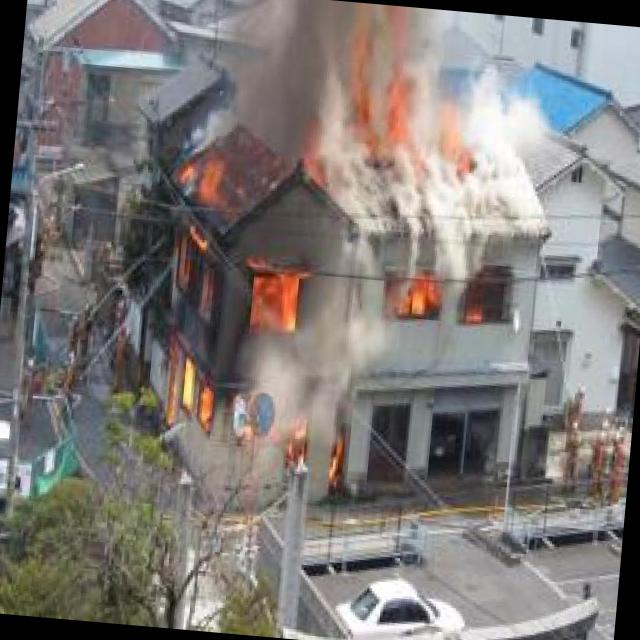Fire: (148, 193, 361, 501), (389, 266, 444, 320)
Smoke: (210, 0, 572, 283)
